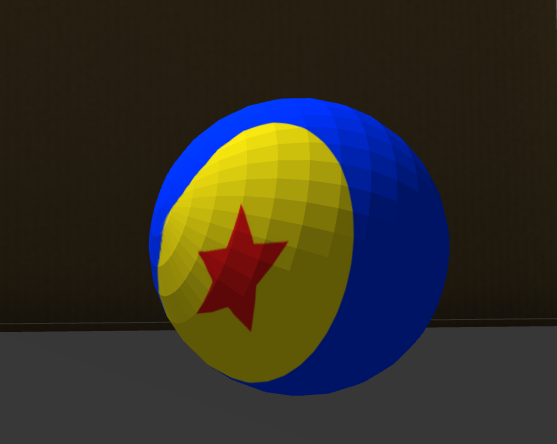toy story ball: (149, 98, 451, 396)
